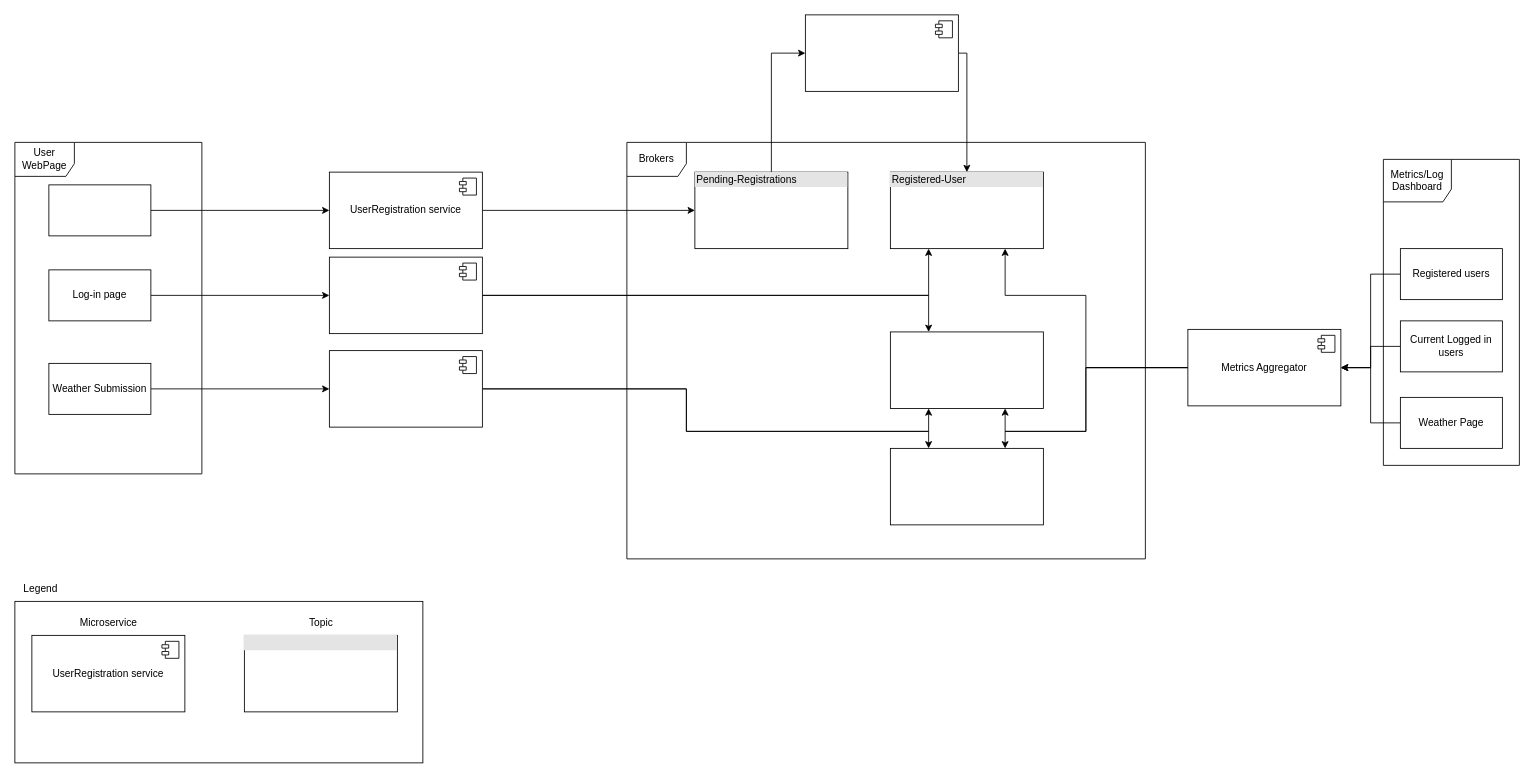
This 1534x778 diagram has some shape labels left out. The shapes that lost their labels are listed below. From the top down, each one's box as (x1, y1, x2, y2) in pixels, then its label:
(805, 14, 958, 91): Registration Validator
(48, 184, 151, 236): Registration page
(329, 256, 482, 334): Log-in service
(329, 350, 482, 427): Weather log connector
(890, 331, 1043, 408): Login-activity
(890, 448, 1043, 525): WeatherSensor
